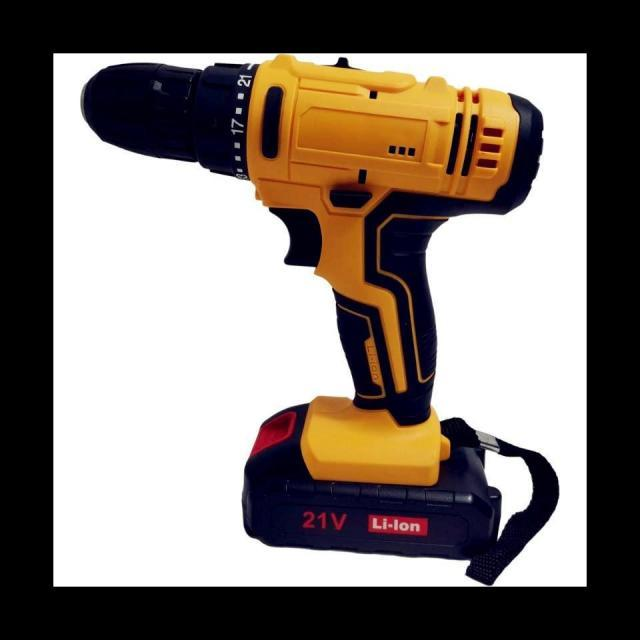drill: (80, 54, 544, 562)
